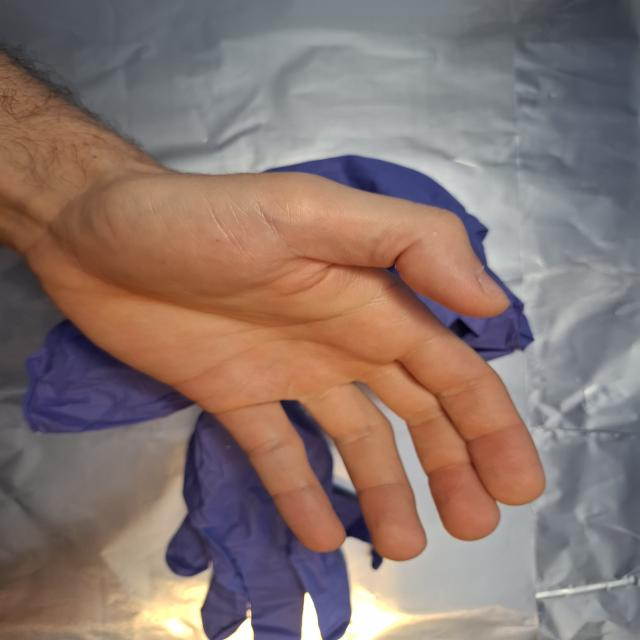glove_off: (18, 153, 550, 563)
